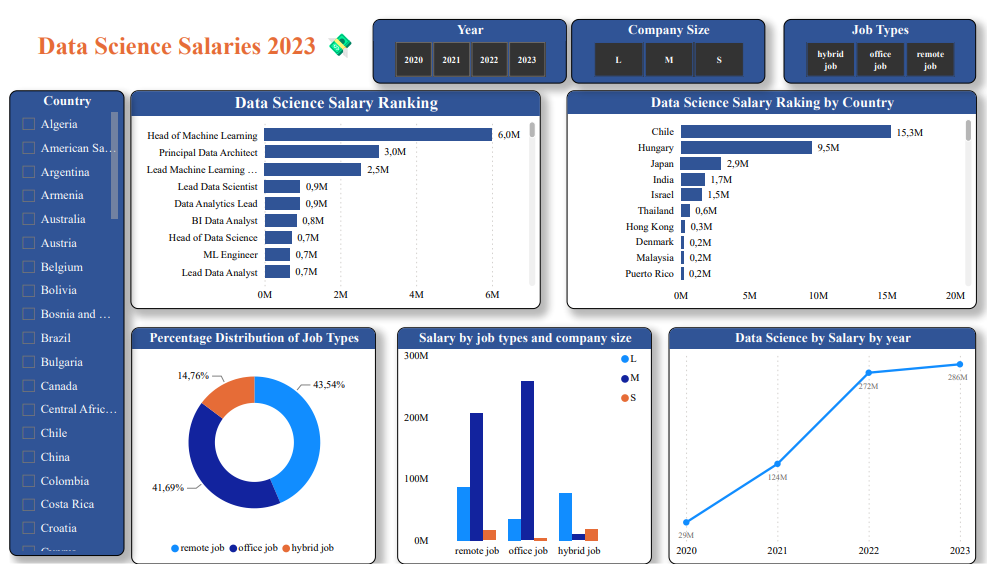

The page's visual inventory and layout, read from the dashboard file:
{"tool":"powerbi","page":{"name":"Overview","canvas":[1280,720],"ordinal":0},"visuals":[{"type":"clusteredBarChart","title":"Data Science Salary Ranking","fields":{"Category":["ds_salaries_cleaned.job_title"],"Y":["Avg(ds_salaries_cleaned.salary)"]},"box":[158.3,103.3,535,285],"z":0},{"type":"donutChart","title":"Percentage Distribution of Job Types","fields":{"Category":["ds_salaries_cleaned.remote_ratio_full"],"Y":["Sum(ds_salaries_cleaned.salary)"]},"box":[159,411.9,319.2,308.6],"z":1000},{"type":"barChart","title":"Data Science Salary Raking by Country","fields":{"Category":["ds_salaries_cleaned.employee_residence_full"],"Y":["Avg(ds_salaries_cleaned.salary)"]},"box":[726.7,103.3,535,285],"z":2000},{"type":"lineChart","title":"Data Science by Salary by year","fields":{"Category":["ds_salaries_cleaned.work_year"],"Y":["Sum(ds_salaries_cleaned.salary)"]},"box":[859.7,411.9,401.4,308.6],"z":3000},{"type":"clusteredColumnChart","title":"Salary by job types and company size","fields":{"Category":["ds_salaries_cleaned.remote_ratio_full"],"Y":["Sum(ds_salaries_cleaned.salary)"],"Series":["ds_salaries_cleaned.company_size"]},"box":[506,411.9,332.5,308.6],"z":4000},{"type":"slicer","title":"Year","fields":{"Values":["ds_salaries_cleaned.work_year"]},"box":[474.1,9.8,252.5,84.7],"z":5000},{"type":"slicer","title":"Country","fields":{"Values":["ds_salaries_cleaned.employee_residence_full"]},"box":[0,102.6,149.9,607.7],"z":6000},{"type":"slicer","title":"Company Size","fields":{"Values":["ds_salaries_cleaned.company_size"]},"box":[733.1,9.8,252.5,84.7],"z":7000},{"type":"slicer","title":"Job Types","fields":{"Values":["ds_salaries_cleaned.remote_ratio_full"]},"box":[1010.1,9.8,250.9,84.7],"z":8000},{"type":"textbox","box":[16.3,16.3,457.8,71.7],"z":9000}]}

Visuals, with their boxes in screenshot pixels (x1, y1, x2, y2), scaled from the page's 1280x720 canvas onto the 987x572 screenshot:
"Data Science Salary Ranking" clusteredBarChart: 122,82,535,308
"Percentage Distribution of Job Types" donutChart: 123,327,369,571
"Data Science Salary Raking by Country" barChart: 560,82,973,308
"Data Science by Salary by year" lineChart: 663,327,972,571
"Salary by job types and company size" clusteredColumnChart: 390,327,647,571
"Year" slicer: 366,8,560,75
"Country" slicer: 0,82,116,564
"Company Size" slicer: 565,8,760,75
"Job Types" slicer: 779,8,972,75
textbox: 13,13,366,70
